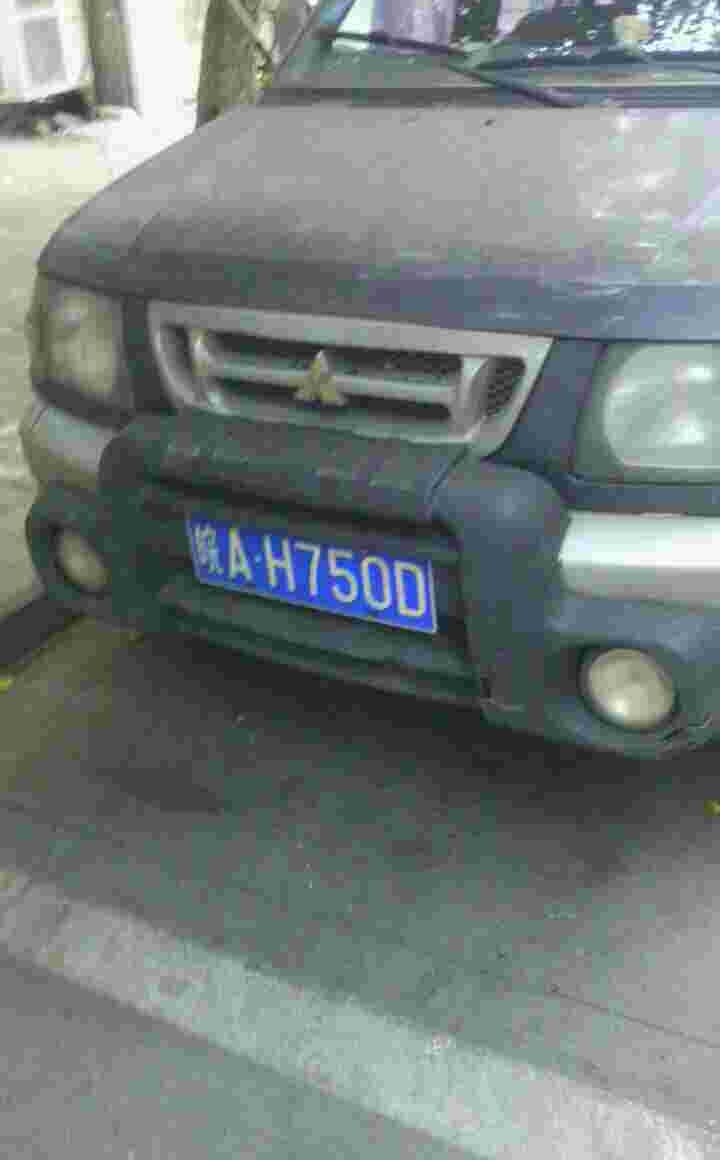license_plate: (189, 519, 430, 633)
